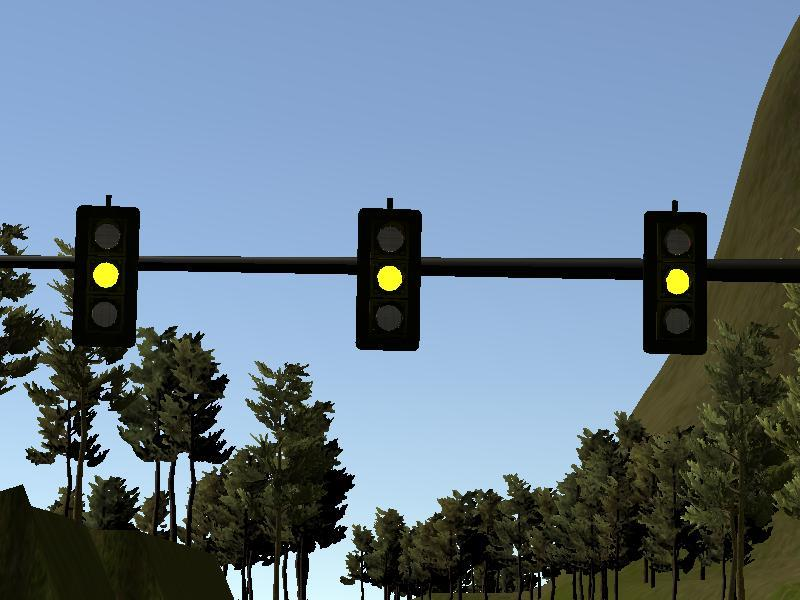Yellow: (357, 209, 422, 351), (644, 211, 707, 354), (75, 205, 137, 347)
